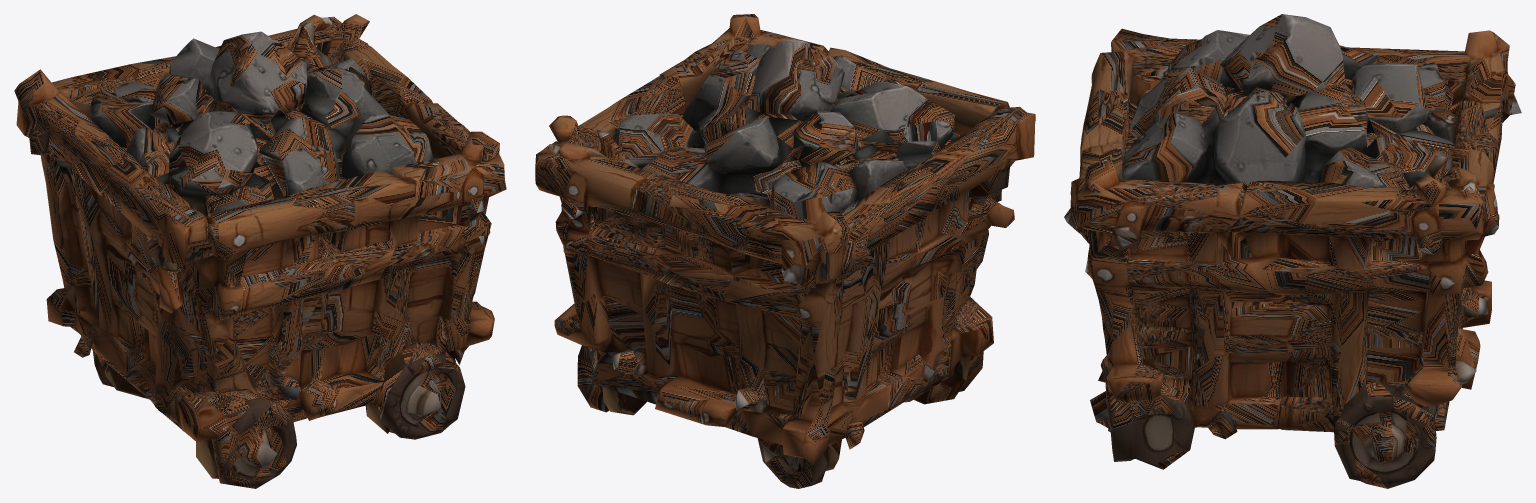
The model's file is wooden_minecart_01.glb.
The picture shows the model from 3 angles, left to right: view 1: azimuth 30°, elevation 25°; view 2: azimuth 150°, elevation 25°; view 3: azimuth 270°, elevation 25°; orthographic projection. The views are drawn at different scales.
Visible parts, largest first — view 1: tripo_node_b6637573-0bbf-4f05-9949-a6bd3c2cb9c2; view 2: tripo_node_b6637573-0bbf-4f05-9949-a6bd3c2cb9c2; view 3: tripo_node_b6637573-0bbf-4f05-9949-a6bd3c2cb9c2.
Boxes of the visible parts, x1,y1,x2,y2 form: tripo_node_b6637573-0bbf-4f05-9949-a6bd3c2cb9c2: (14,14,506,488); tripo_node_b6637573-0bbf-4f05-9949-a6bd3c2cb9c2: (535,14,1035,488); tripo_node_b6637573-0bbf-4f05-9949-a6bd3c2cb9c2: (1064,14,1521,488).
Bounding box in the file's own units: 0.9112 × 0.9873 × 0.9769.
Materials: 1 (1 with a texture image).
